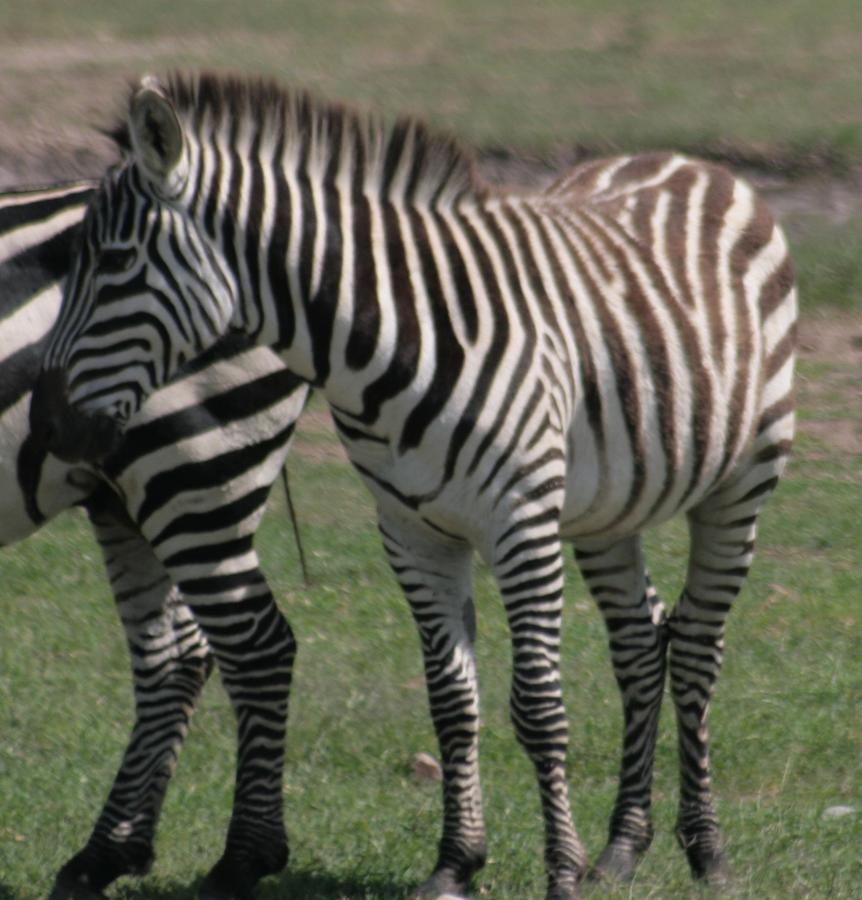zebra_plains: (382, 157, 807, 572)
